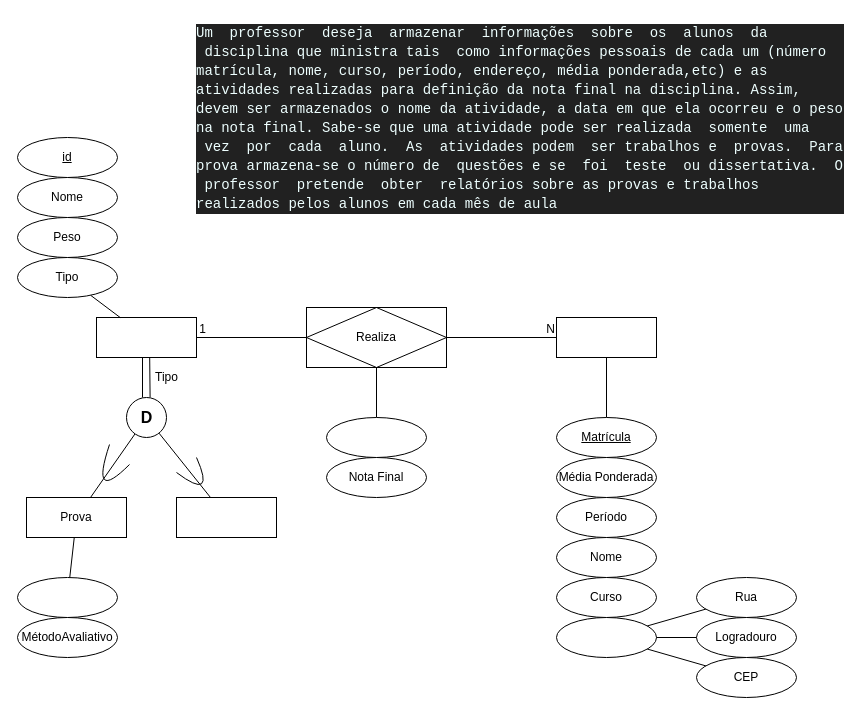
Some shapes in this 862 by 715 pixel diagram are drawn without their labels. The centre of each missing label's shape, as x and y in pixels:
Aluno: [606,337]
Atividade: [146,337]
Data: [376,437]
Endereço: [606,637]
NroQuestoes: [67,597]
Trabalho: [226,517]
